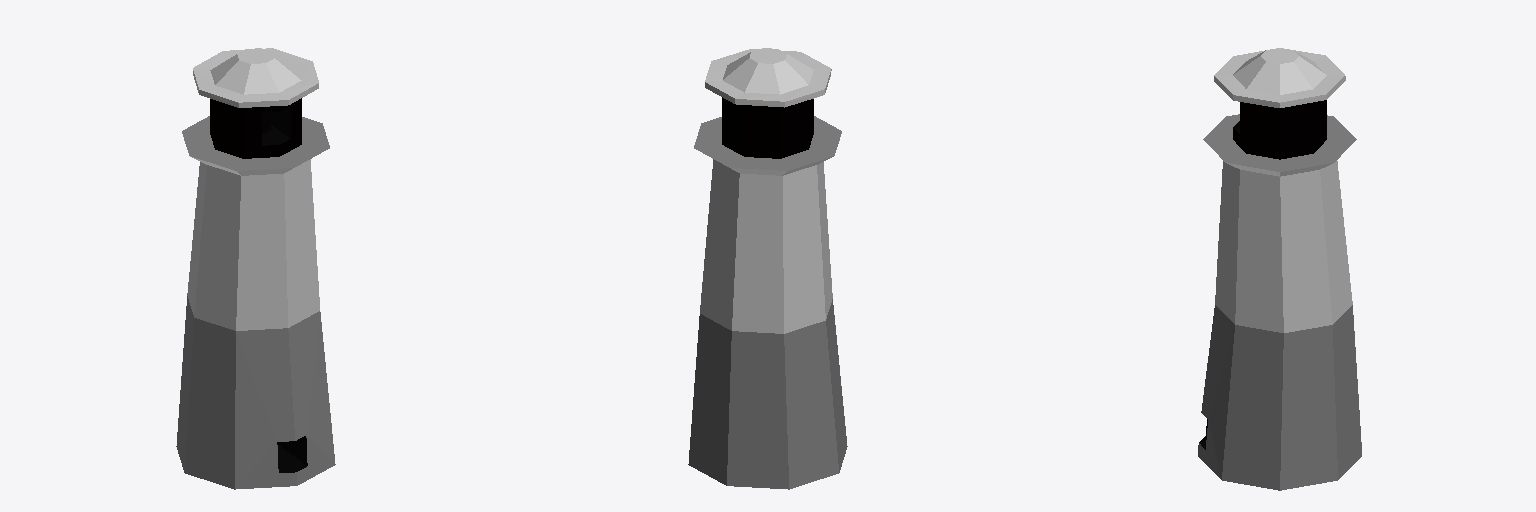
Rendered from PH_lighthouse.obj.
3 renders of one model, left to right at view 1: azimuth 30°, elevation 25°; view 2: azimuth 150°, elevation 25°; view 3: azimuth 270°, elevation 25°, orthographic.
Visible parts, largest first — view 1: Cylinder; view 2: Cylinder; view 3: Cylinder.
Boxes of the visible parts, x1,y1,x2,y2 form: Cylinder: [176, 48, 335, 489]; Cylinder: [688, 48, 847, 489]; Cylinder: [1198, 48, 1361, 490].
Size of the model in its own units: 9.85 by 26.38 by 9.85.